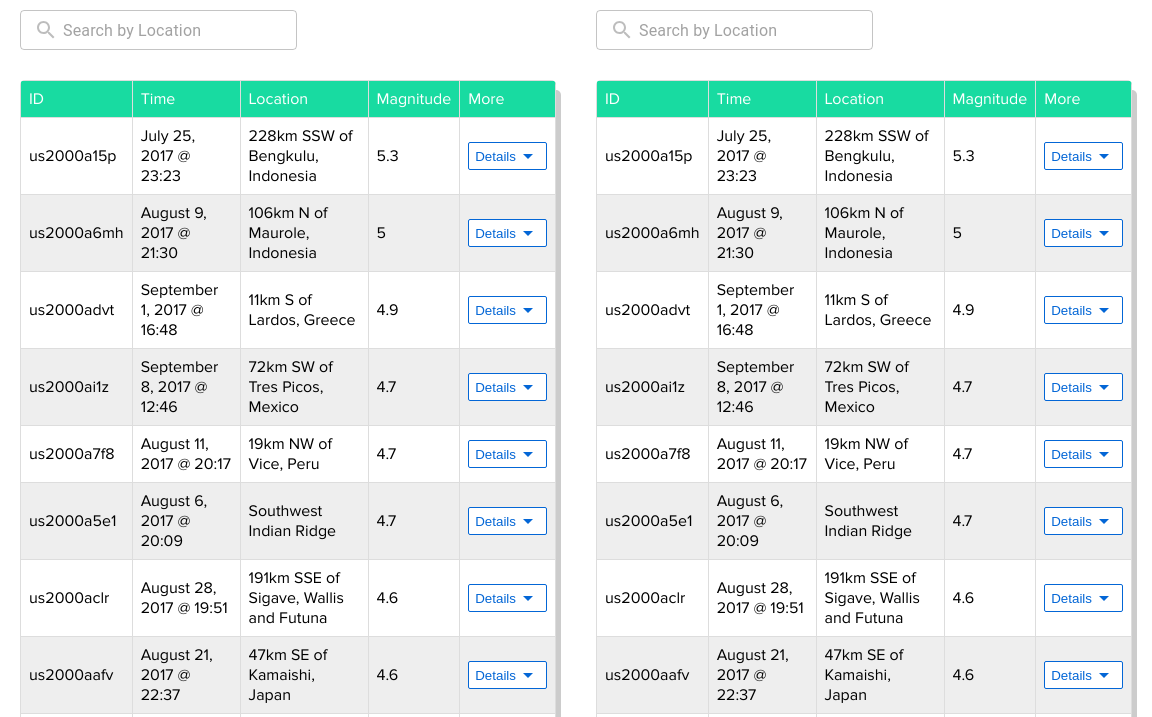
Earthquake App › clicking on details button should show you the longitude and latitude for the earthquake.
Click the 2nd button with class "closed-button" at (1084, 156), box [1044,142,1123,170]
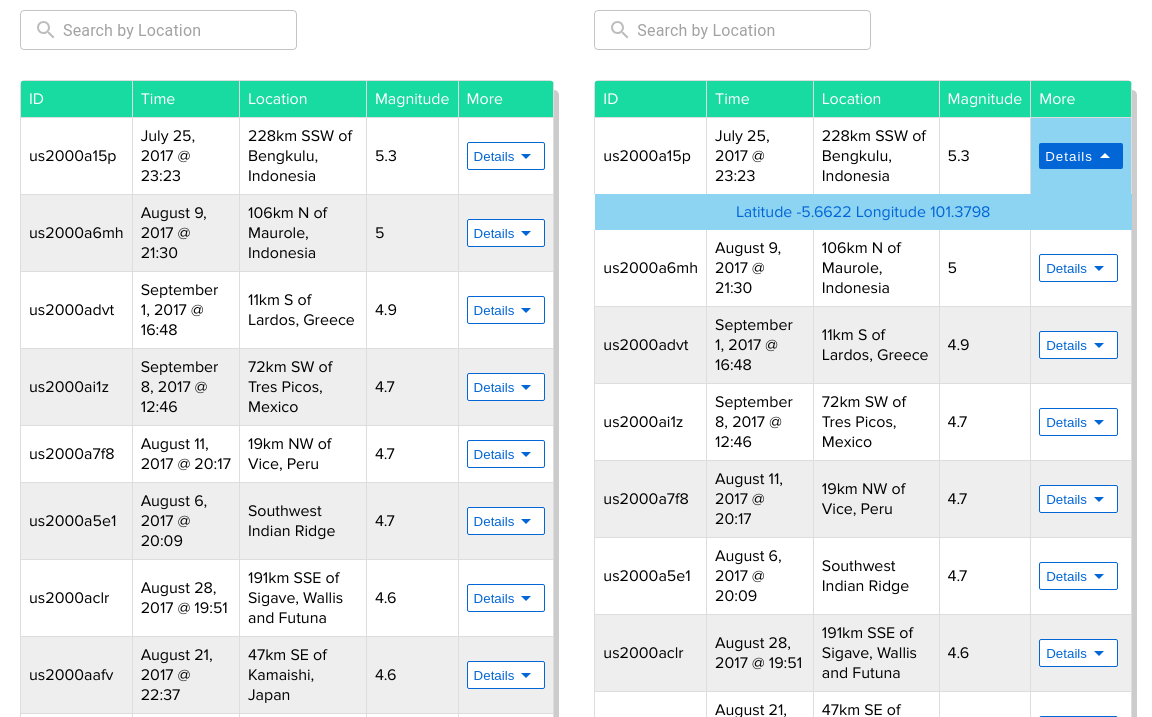
Expected: the row with test id "open-details-row" reads "Latitude -5.6622 Longitude 101.3798", [595,194,1132,230]
